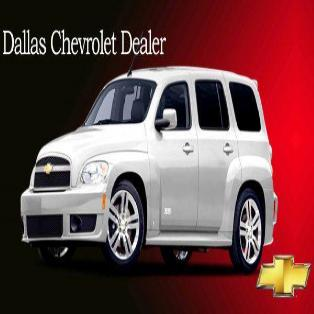Auto: (20, 61, 278, 276)
